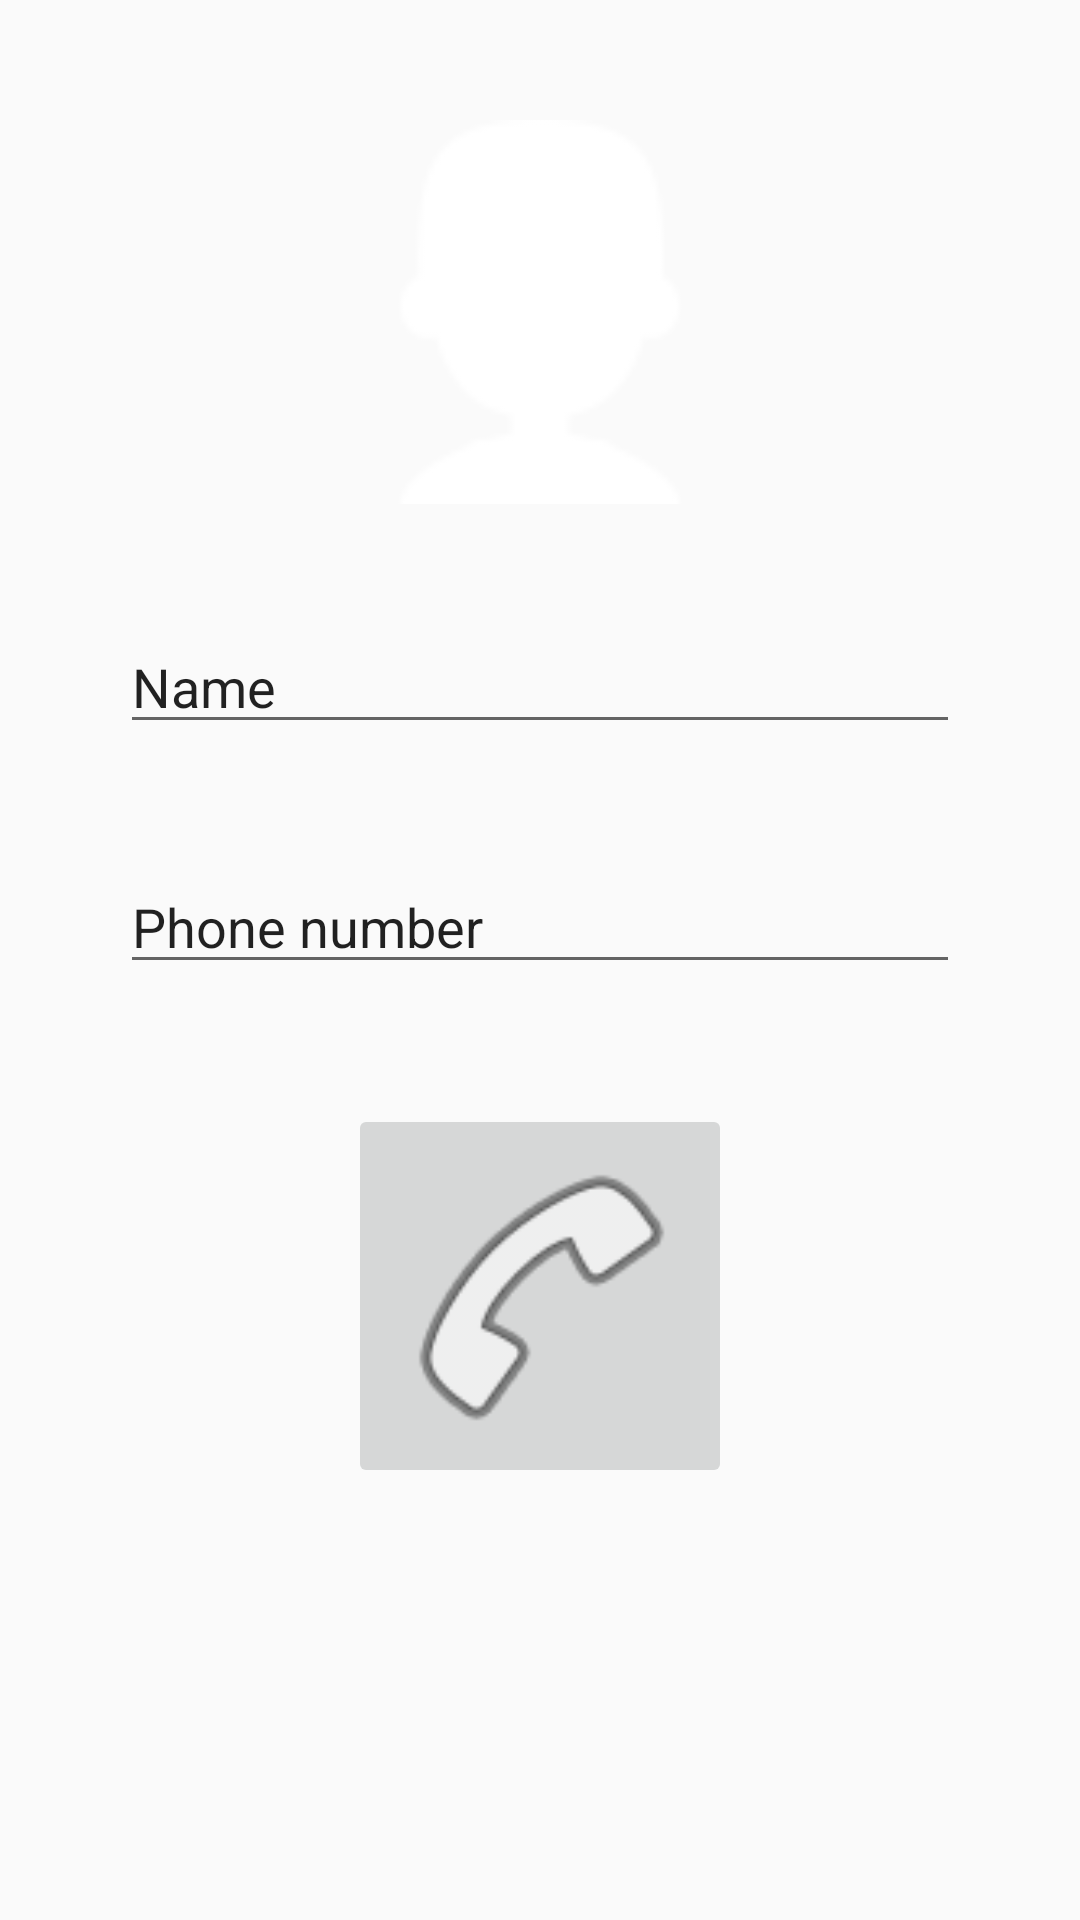

Point at icon controls on the screen. Image size 1080px×1920px, points as [x,y].
Call image: [540,1296]
